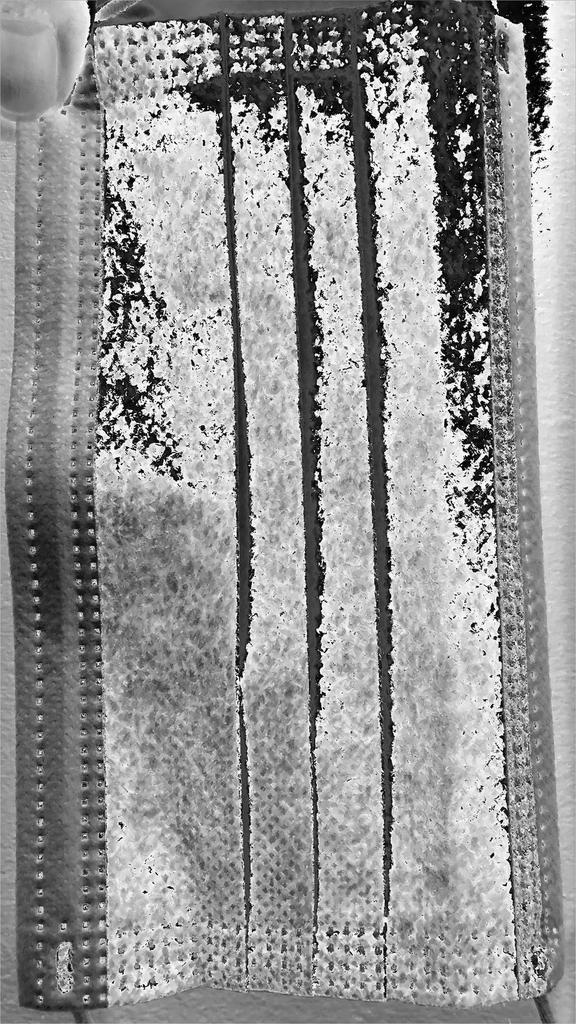High GSM: (93, 3, 569, 1013)
